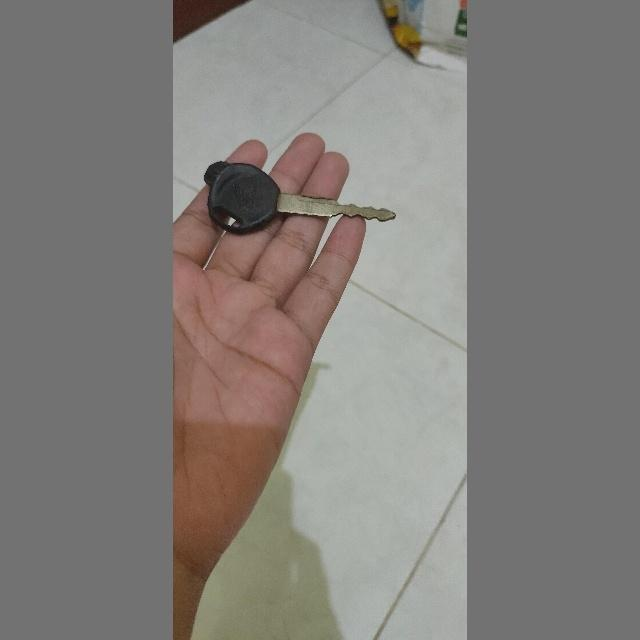Keys: (199, 152, 407, 248)
